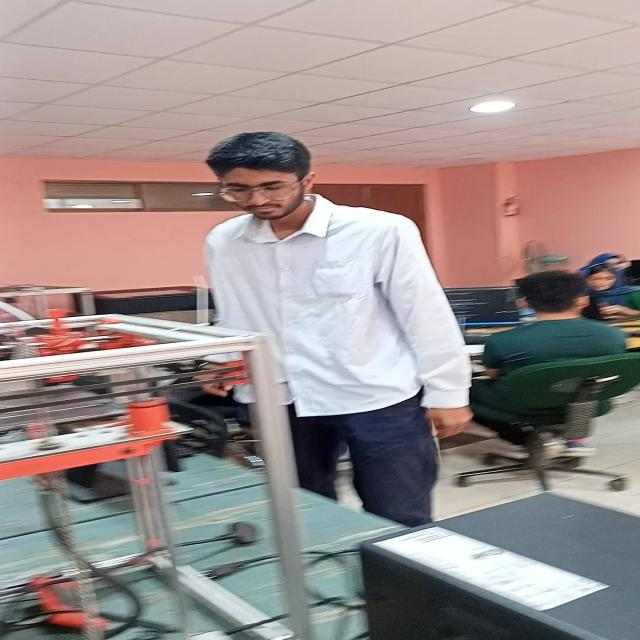dress: (199, 196, 474, 519)
glasses: (213, 181, 307, 200)
